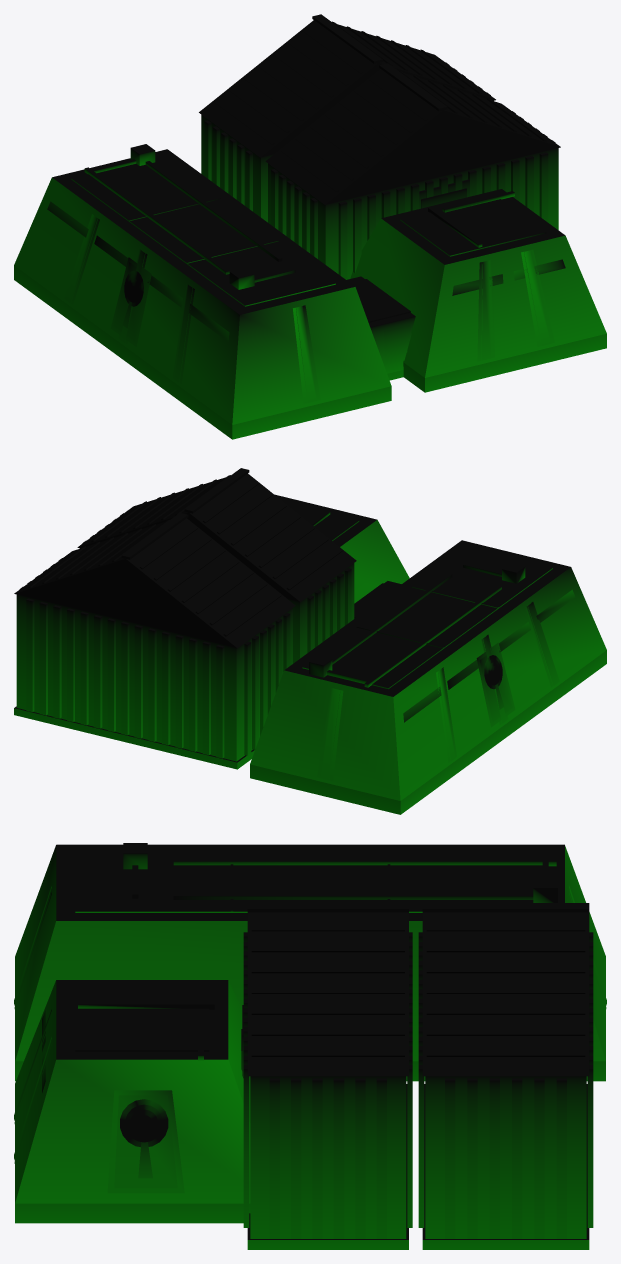
File: hpg_gen.glb
3 views of the same model, one above another, from view 1: azimuth 30°, elevation 25°; view 2: azimuth 150°, elevation 25°; view 3: azimuth 270°, elevation 25° (orthographic). The views are drawn at different scales.
Visible parts, largest first — view 1: lod0; view 2: lod0; view 3: lod0.
Boxes of the visible parts, <box> form: lod0: <box>14,14,606,439</box>; lod0: <box>14,468,606,814</box>; lod0: <box>14,843,606,1249</box>.
Size of what is drawn, in the model's own units: 23.89 by 10.73 by 21.68.
